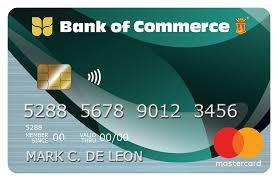payment_card: (7, 7, 271, 174)
